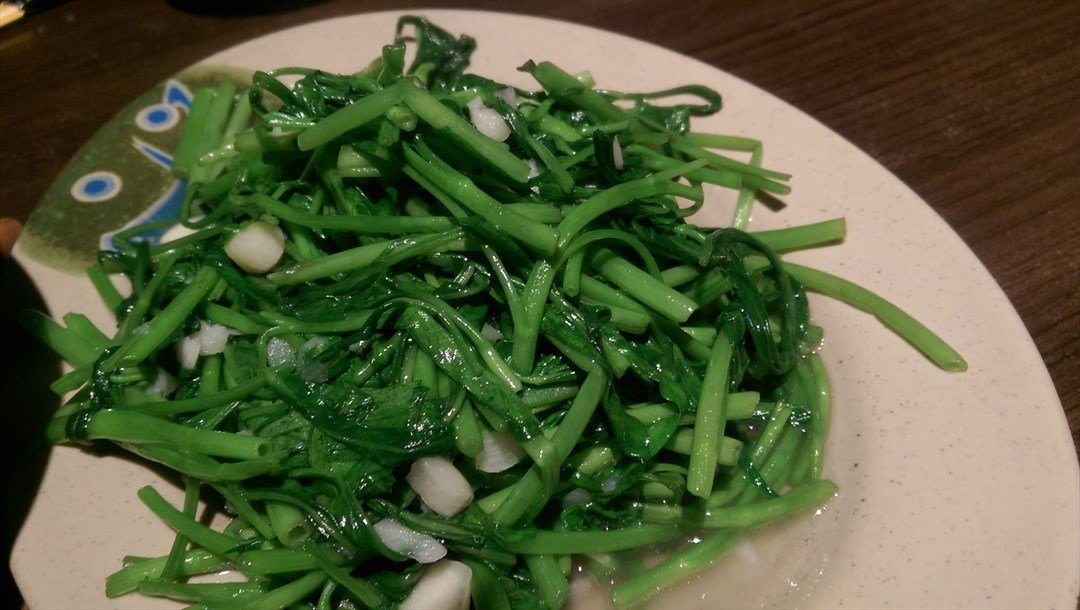water_spinach: (103, 51, 819, 601)
